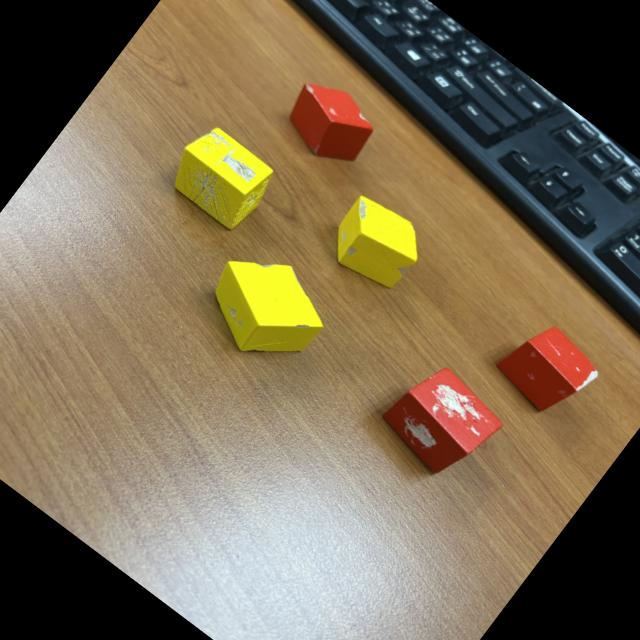broken: (190, 235, 340, 382), (373, 354, 511, 490), (158, 115, 283, 237), (487, 310, 608, 430), (318, 188, 434, 303), (274, 70, 387, 178)
